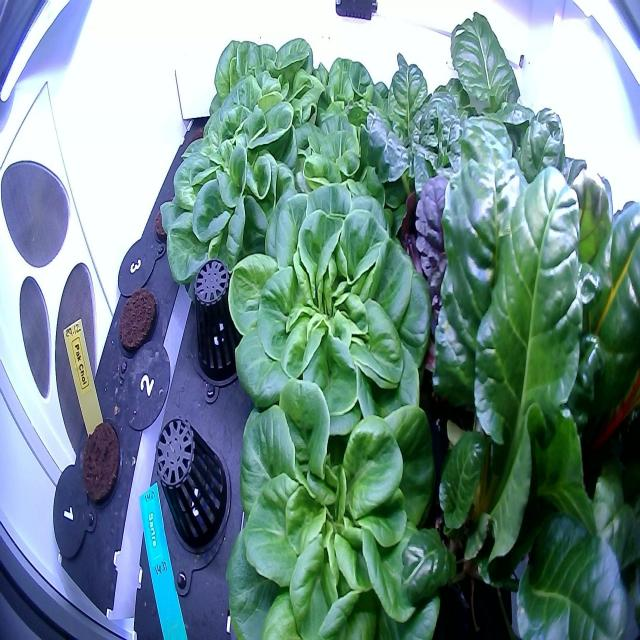Ready: (220, 364, 456, 640), (222, 176, 439, 443), (150, 71, 306, 293), (266, 79, 424, 237), (189, 19, 327, 149), (282, 47, 402, 157)
empty_pod: (152, 410, 230, 549), (184, 256, 240, 384)
pod: (76, 417, 125, 512), (114, 282, 159, 359)
